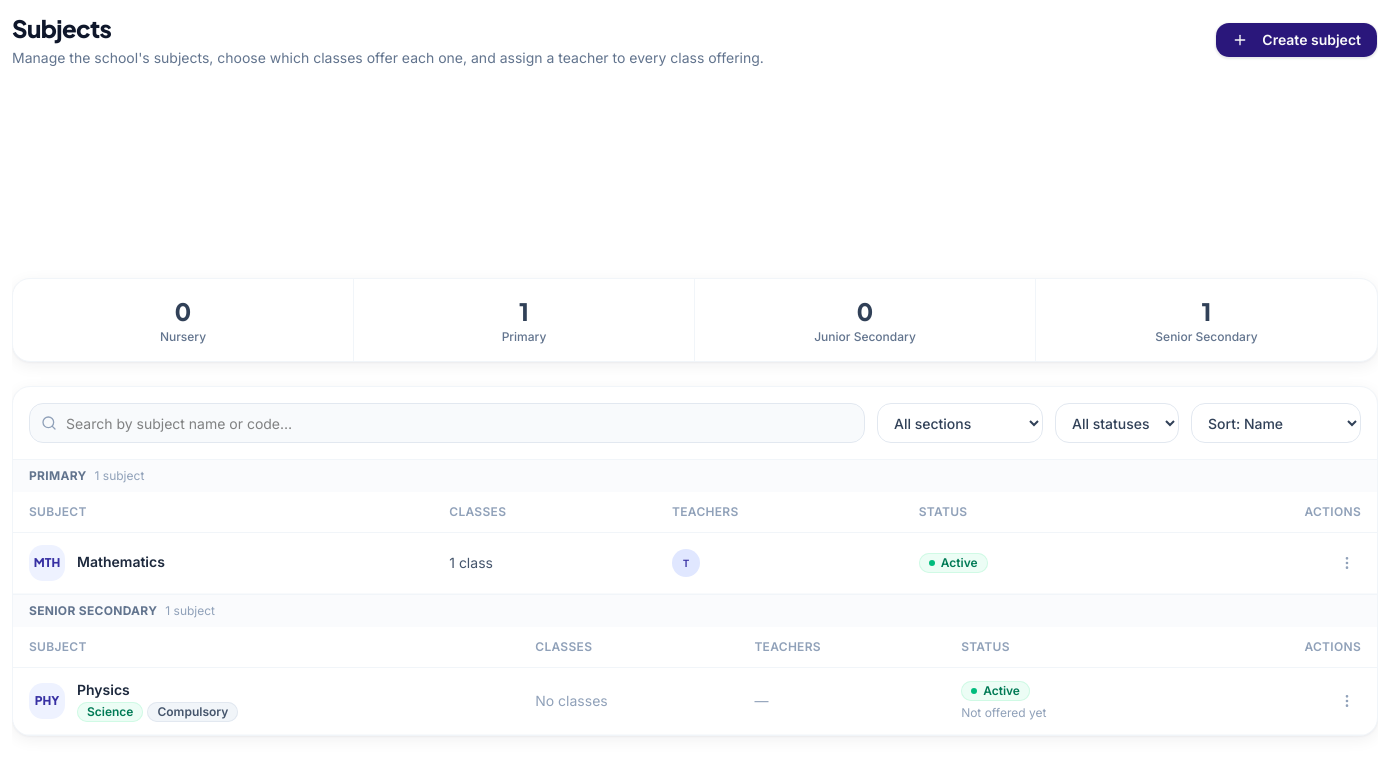
Test: SubjectsView › filtering and search › shows no matches empty state when filter matches nothing
This screenshot has width=1390, height=780.
In the field with placeholder "Search by subject name or code…": (447, 423) [29,403,865,443], type "ChemistryNonExistent"
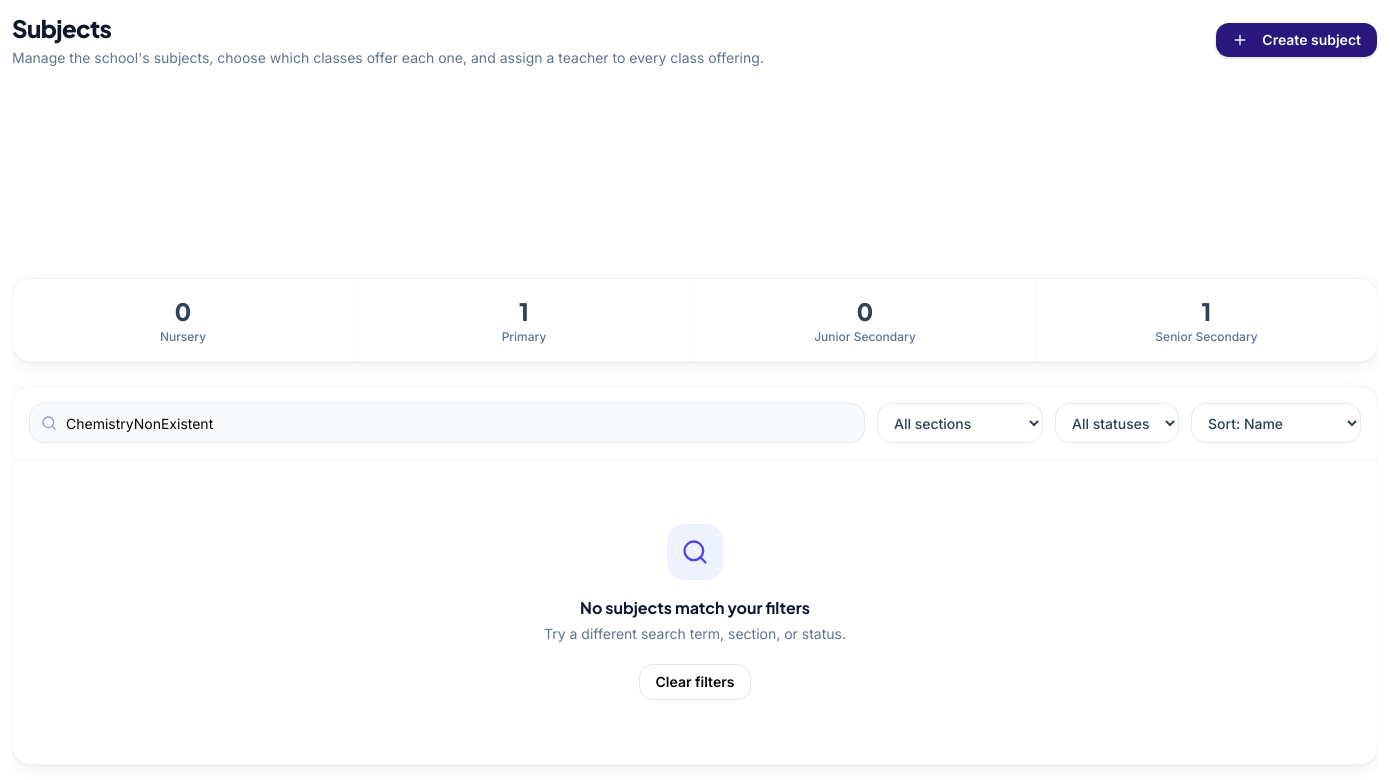
Check: the heading "No subjects match your filters" is shown, box [580,596,810,620]
Check: the button "Clear filters" is shown
Click the button "Clear filters": (695, 682) [638,664,751,700]
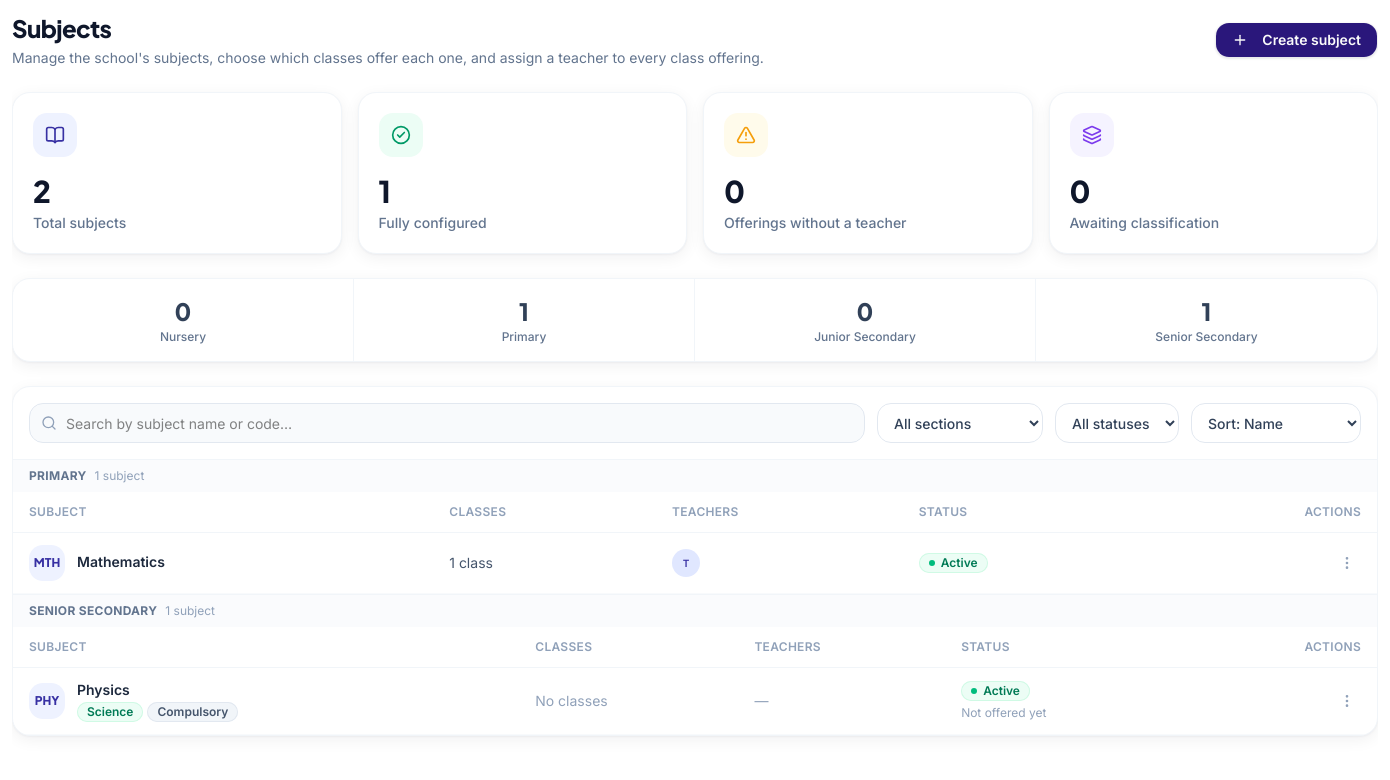
Check: the text "Mathematics" is shown, box [77,552,165,572]
Check: the text "Physics" is shown, box [77,681,130,698]
